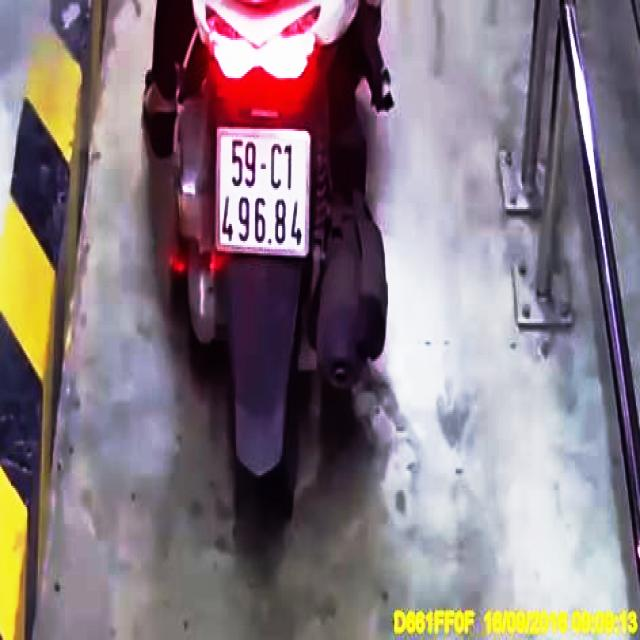license_plate: (218, 127, 312, 257)
